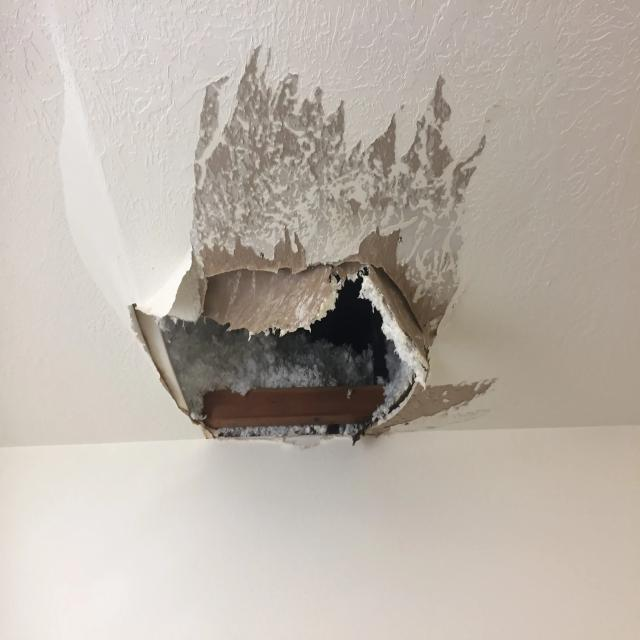damaged_roof: (123, 222, 495, 446)
